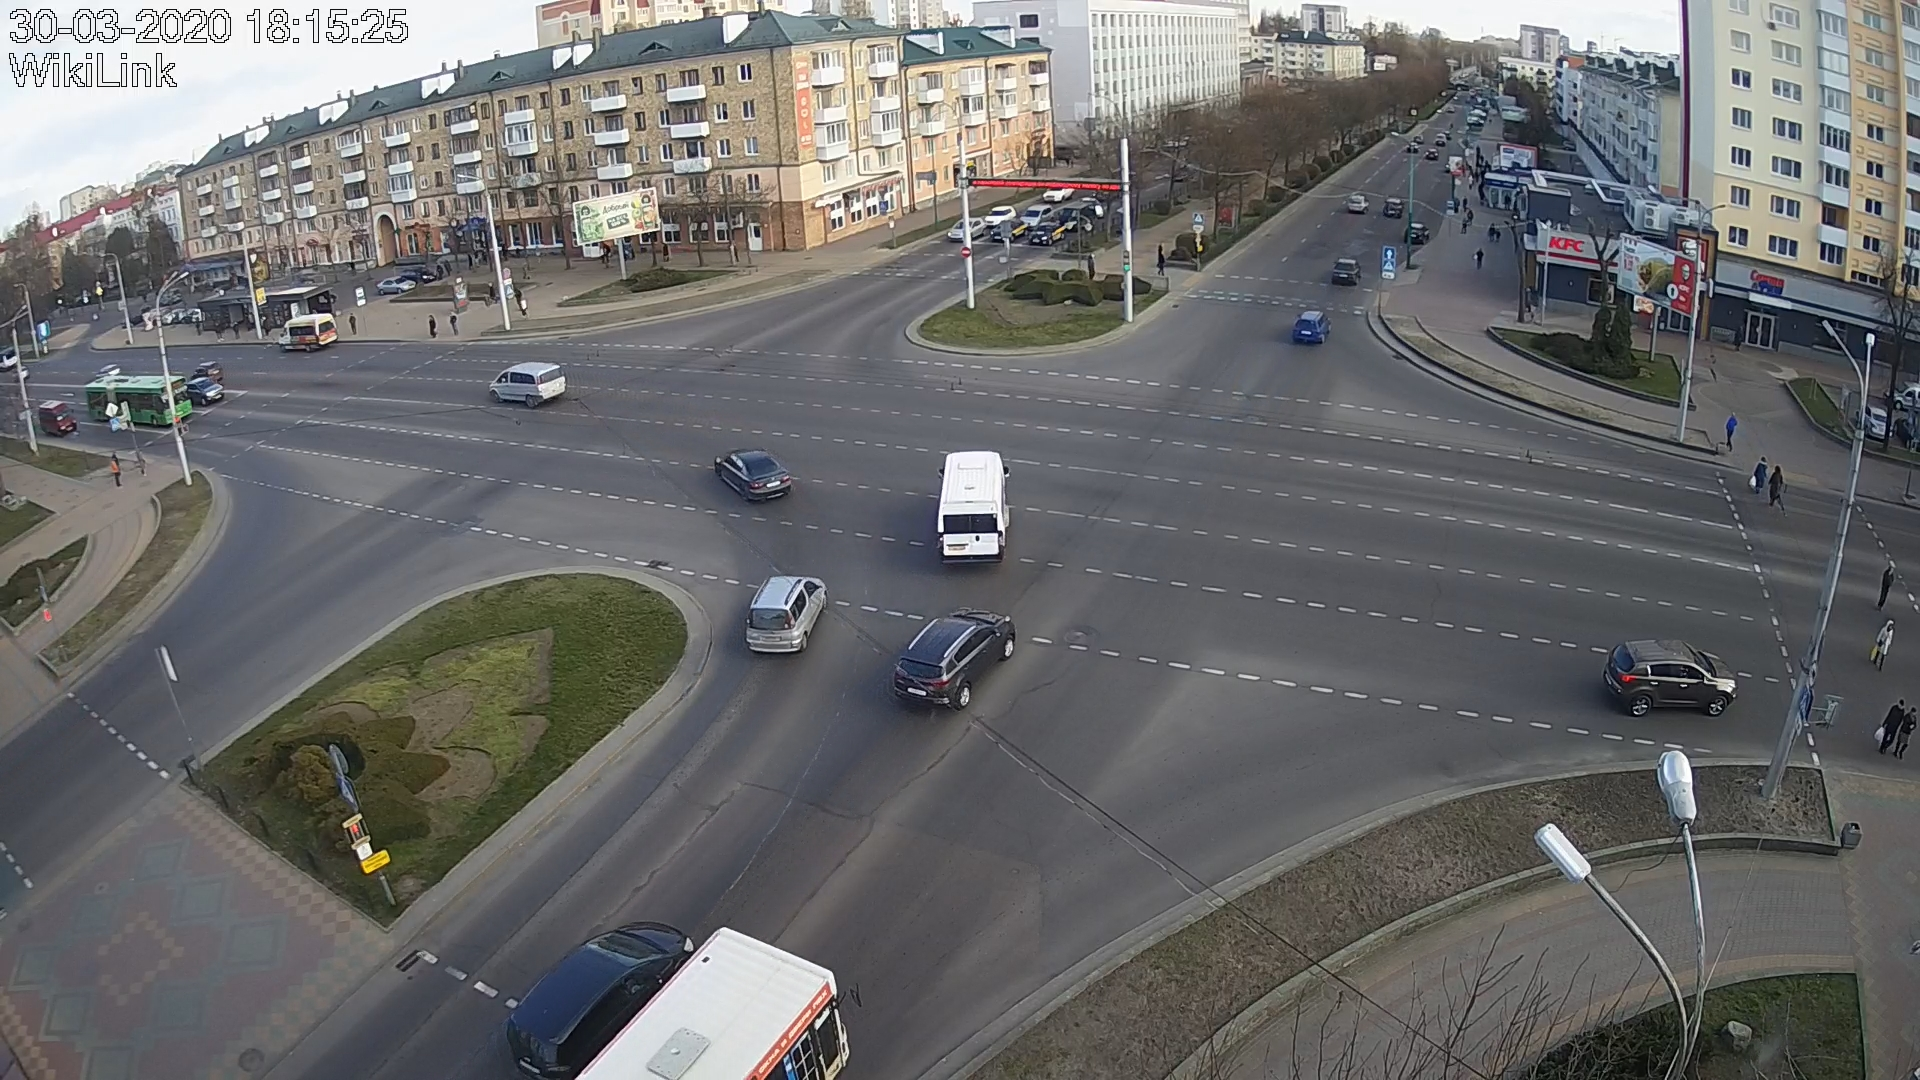bus: (84, 375, 193, 426)
car: (510, 915, 698, 1075), (893, 607, 1017, 709), (1601, 638, 1737, 717), (936, 451, 1011, 564), (746, 578, 827, 655), (713, 447, 793, 502), (488, 361, 567, 409), (280, 313, 339, 353), (1290, 309, 1332, 345), (40, 400, 76, 436), (185, 376, 224, 406), (1331, 256, 1361, 287), (1029, 222, 1065, 247), (947, 218, 985, 241), (990, 220, 1029, 243), (1021, 204, 1054, 229), (985, 204, 1018, 229)
